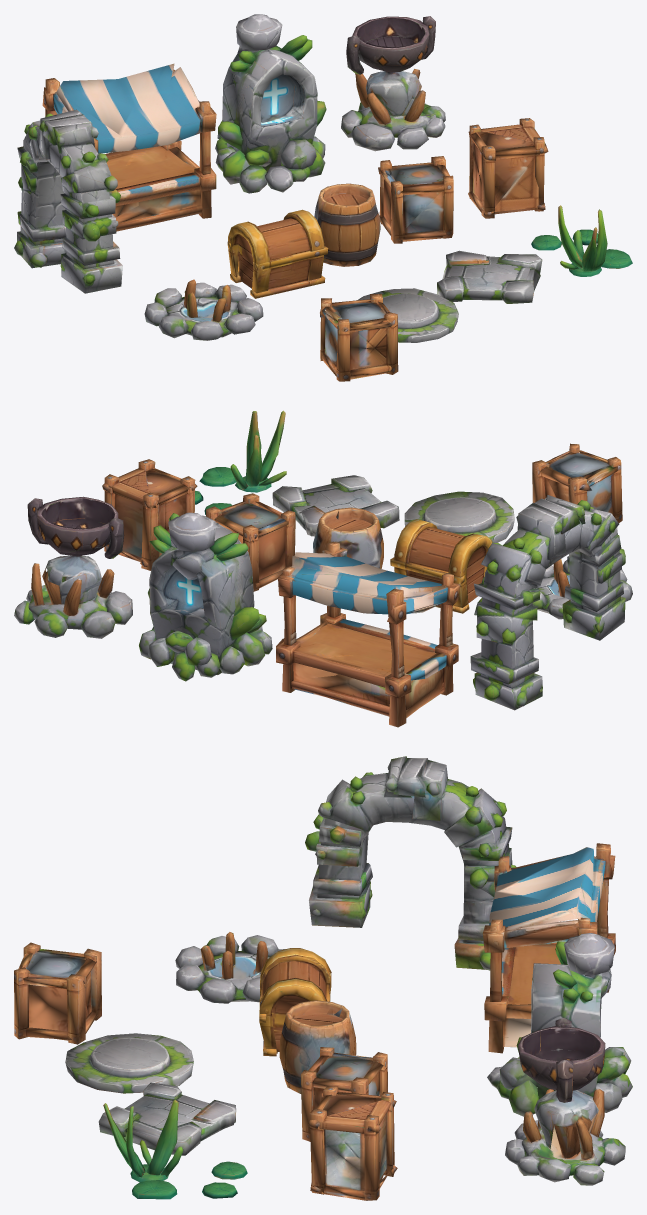
The model's file is objetos.glb.
3 views of the same model, one above another, from view 1: azimuth 30°, elevation 25°; view 2: azimuth 150°, elevation 25°; view 3: azimuth 270°, elevation 25° (orthographic). The views are drawn at different scales.
Visible parts, largest first — view 1: puesto, arco_puerta, totem_runico, brasero, cofre, caja, caja_pequena, caja_cristal, fogata, baldosa_guardado, barril, placa_peso (+1 smaller); view 2: puesto, arco_puerta, totem_runico, brasero, caja, cofre, caja_pequena, caja_cristal, placa_peso, baldosa_guardado, barril, juncos (+1 smaller); view 3: arco_puerta, puesto, brasero, totem_runico, caja, caja_pequena, placa_peso, fogata, baldosa_guardado, cofre, juncos, barril (+1 smaller).
Part boxes in pixels (x1,y1,x2,y2): puesto: (42, 63, 216, 231); arco_puerta: (14, 109, 122, 293); totem_runico: (215, 14, 326, 193); brasero: (341, 16, 445, 151); cofre: (227, 209, 328, 298); caja: (468, 118, 548, 218); caja_pequena: (320, 294, 398, 381); caja_cristal: (378, 156, 453, 243); fogata: (144, 279, 263, 340); baldosa_guardado: (437, 250, 542, 303); barril: (314, 183, 380, 266); placa_peso: (357, 288, 458, 342); puesto: (276, 541, 460, 727); arco_puerta: (470, 495, 625, 710); totem_runico: (139, 512, 272, 681); brasero: (14, 496, 132, 638); caja: (102, 459, 197, 570); cofre: (390, 519, 492, 613); caja_pequena: (532, 443, 622, 522); caja_cristal: (206, 493, 295, 591); placa_peso: (404, 491, 514, 542); baldosa_guardado: (272, 475, 399, 536); barril: (313, 507, 383, 568); juncos: (195, 410, 286, 514); arco_puerta: (305, 756, 516, 970); puesto: (482, 843, 615, 1053); brasero: (505, 1018, 625, 1185); totem_runico: (487, 933, 632, 1116); caja: (308, 1086, 397, 1200); caja_pequena: (14, 942, 101, 1044); placa_peso: (65, 1033, 193, 1093); fogata: (175, 932, 285, 1003); baldosa_guardado: (98, 1082, 236, 1155); cofre: (259, 948, 331, 1056); juncos: (103, 1100, 247, 1199); barril: (279, 1000, 356, 1093).
Bounding box in the file's own units: 1 × 0.3351 × 0.9982.
1 material, 1 textured.
